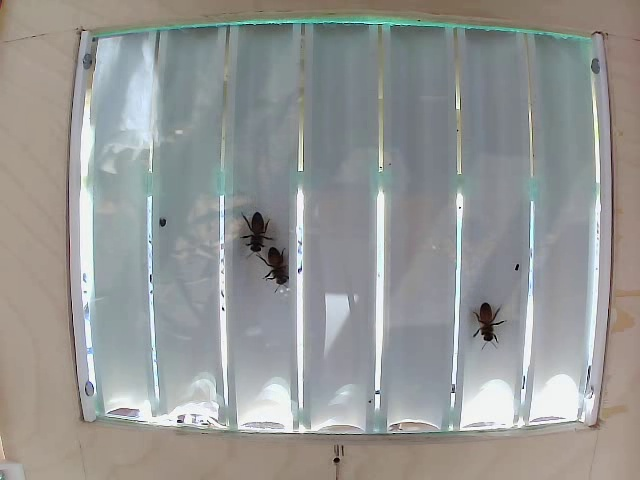bee: (467, 291, 512, 356), (260, 245, 298, 305), (237, 205, 274, 252)
